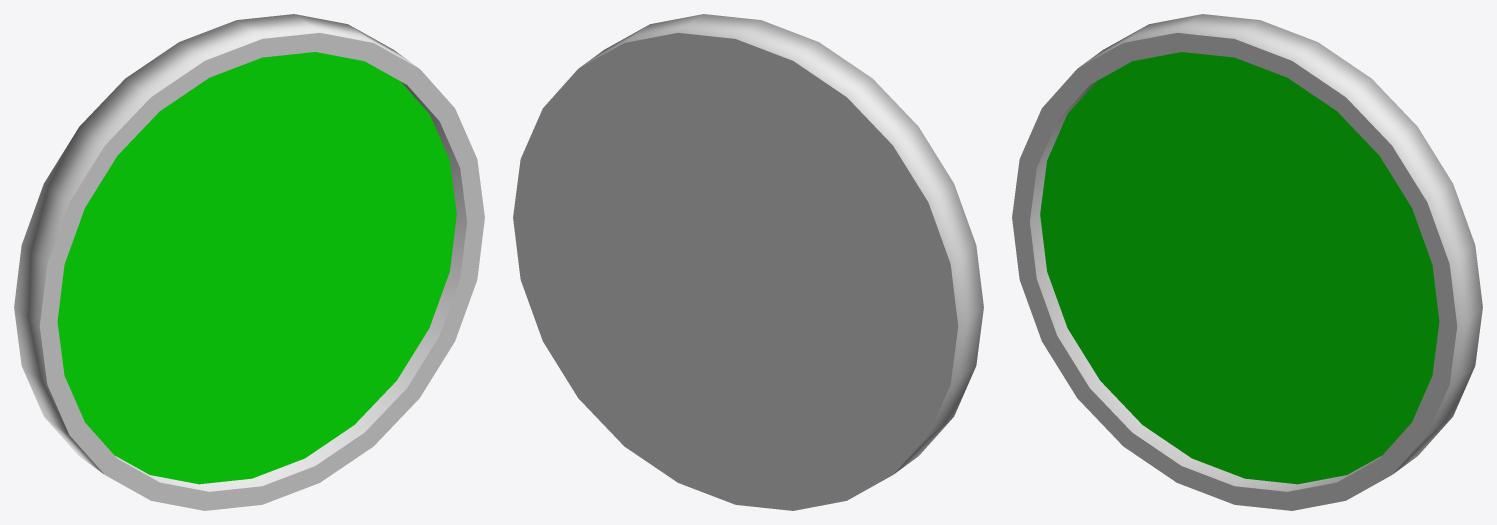
File: clock_metal.dae
The picture shows the model from 3 angles, left to right: view 1: azimuth 30°, elevation 25°; view 2: azimuth 150°, elevation 25°; view 3: azimuth 330°, elevation 25°; orthographic projection.
Parts seen in each view (by area): view 1: clock_metal; view 2: clock_metal; view 3: clock_metal.
Part boxes in pixels (x1,y1,x2,y2): clock_metal: (14, 14, 484, 510); clock_metal: (513, 14, 983, 510); clock_metal: (1012, 14, 1482, 510).
Bounding box in the file's own units: 0.5 × 0.05 × 0.5.
